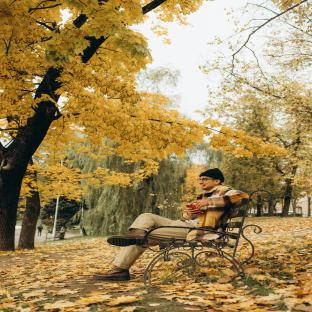Human: (93, 168, 249, 281)
